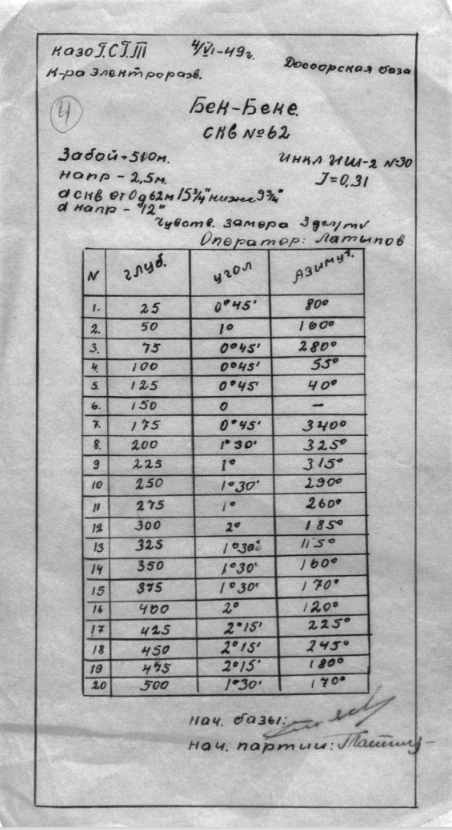Bordered: (84, 251, 370, 698)
